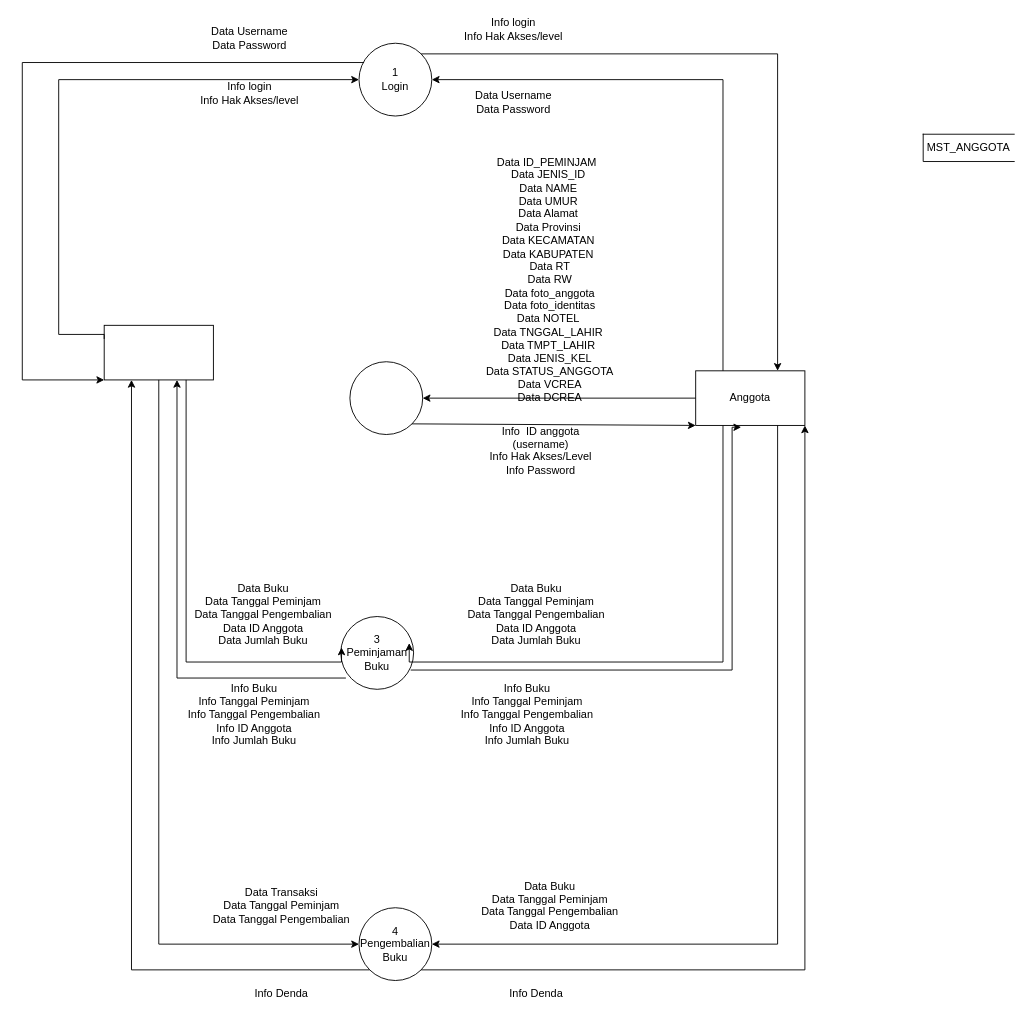
This 1030x1023 diagram has some shape labels left out. Here are the shapes that lost their labels. From the top down, the box of each, then its label:
(103, 324, 213, 380): Admin Sistem
(349, 361, 423, 435): 2 Pendaftraan Anggota
